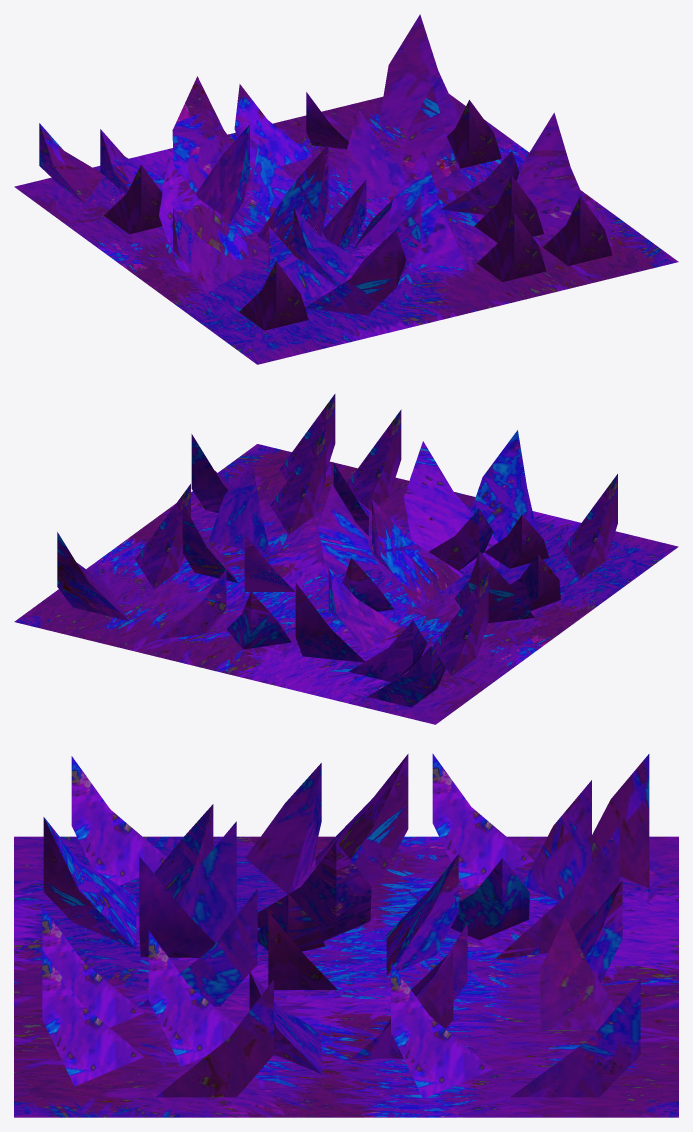
The model's file is Cristal.glb.
3 renders of one model, top to bottom at view 1: azimuth 30°, elevation 25°; view 2: azimuth 150°, elevation 25°; view 3: azimuth 270°, elevation 25°, orthographic. The views are drawn at different scales.
Parts seen in each view (by area): view 1: grass; view 2: grass; view 3: grass.
Part boxes in pixels (x1,y1,x2,y2): grass: (14,14,678,364); grass: (14,394,678,724); grass: (14,753,678,1117).
Size of the model in its own units: 1 by 0.2 by 1.
1 material, 1 textured.
